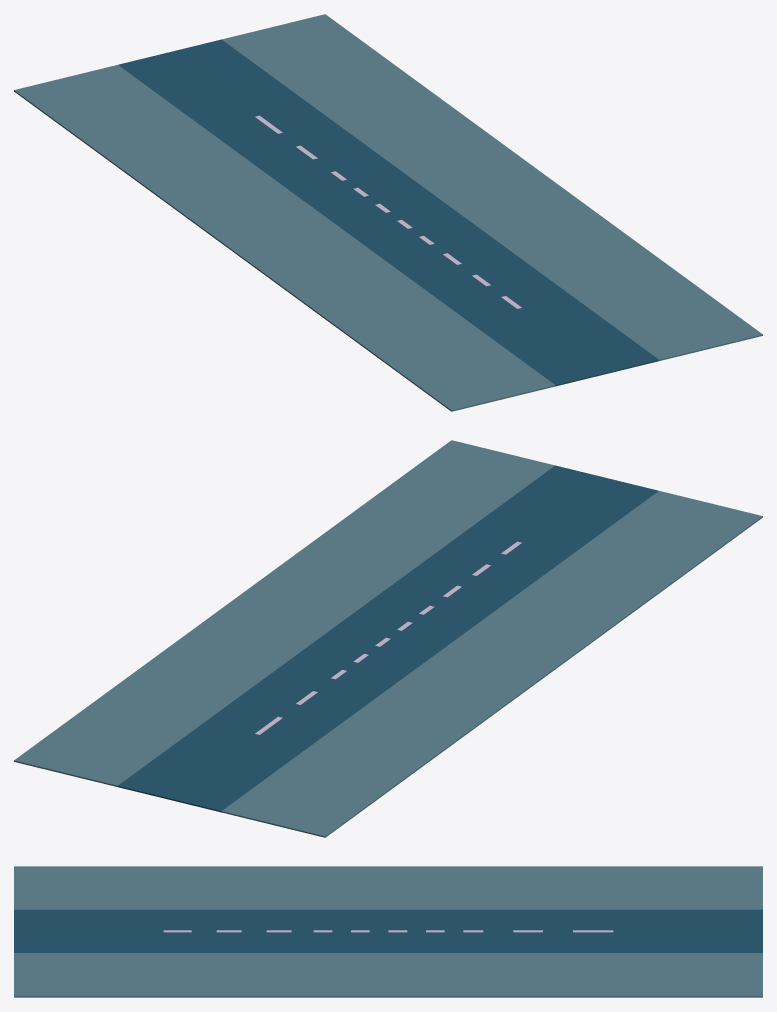
Rendered from аэродром.fbx.
3 renders of one model, top to bottom at view 1: azimuth 30°, elevation 25°; view 2: azimuth 150°, elevation 25°; view 3: azimuth 270°, elevation 25°, orthographic. The views are drawn at different scales.
Visible parts, largest first — view 1: Cube.009; view 2: Cube.009; view 3: Cube.009.
Boxes of the visible parts, x1=… form: Cube.009: x1=14, y1=14, x2=762, y2=411; Cube.009: x1=14, y1=440, x2=762, y2=837; Cube.009: x1=14, y1=866, x2=762, y2=997.
Bounding box in the file's own units: 4088 × 17.73 × 9950.
